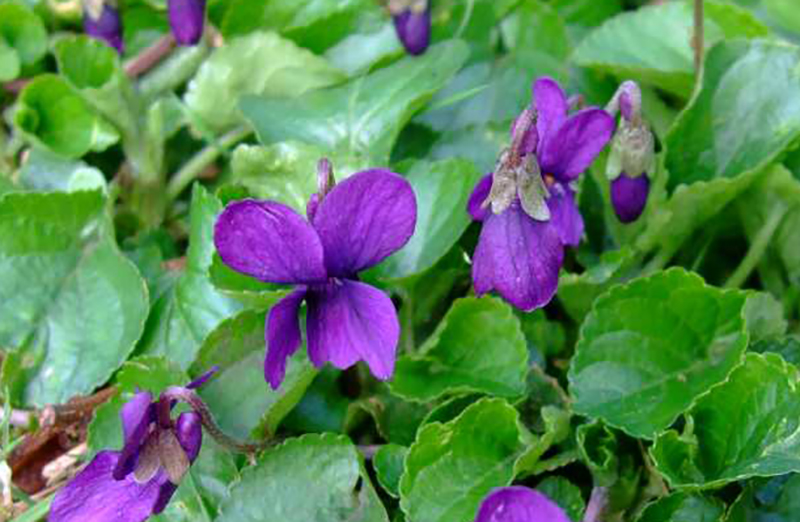violet: (203, 173, 409, 384), (456, 79, 592, 308)
